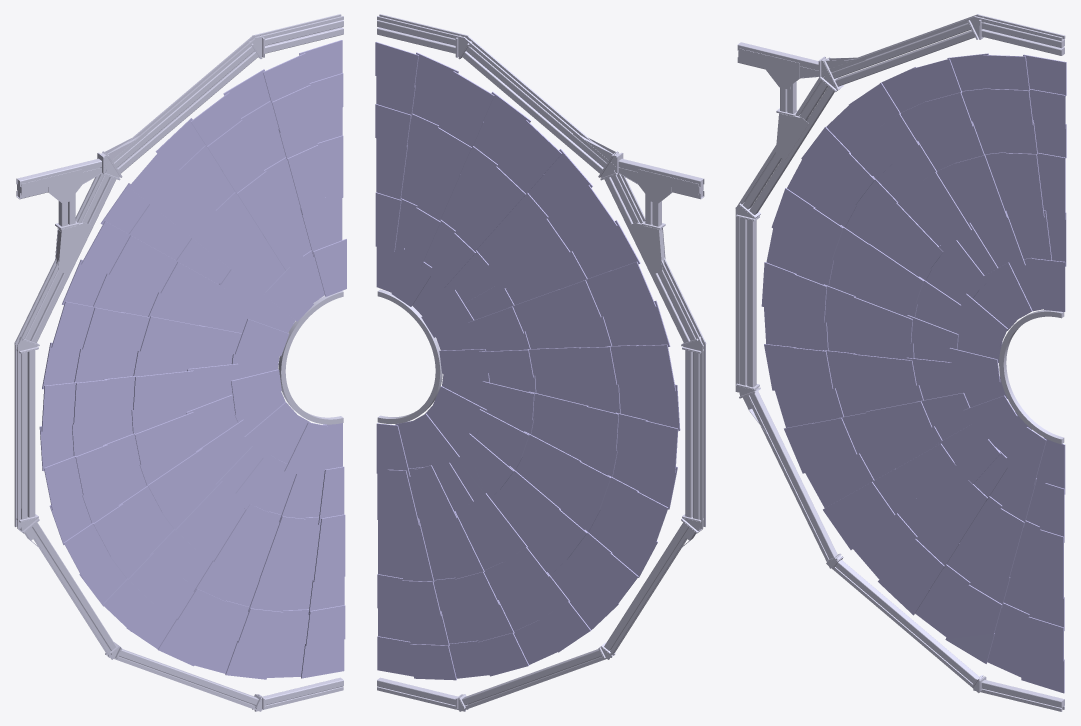
Rendered from TGC2-SideC-cut2.glb.
3 views of the same model, side by side, from view 1: azimuth 30°, elevation 25°; view 2: azimuth 150°, elevation 25°; view 3: azimuth 330°, elevation 25° (orthographic).
Visible parts, largest first — view 1: null; view 2: null; view 3: null.
Part boxes in pixels (x1=…): null: x1=14, y1=14, x2=346, y2=711; null: x1=375, y1=14, x2=706, y2=711; null: x1=735, y1=14, x2=1066, y2=711.
Bounding box in the file's own units: 13.08 × 25.65 × 0.4083.
